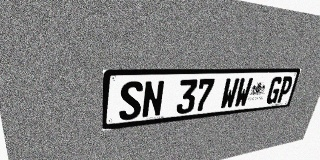3: (176, 79, 198, 114)
7: (193, 79, 215, 112)
G: (265, 76, 284, 104)
N: (141, 80, 165, 118)
P: (276, 76, 294, 103)
S: (119, 81, 143, 121)
W: (219, 78, 240, 109), (233, 77, 253, 108)
